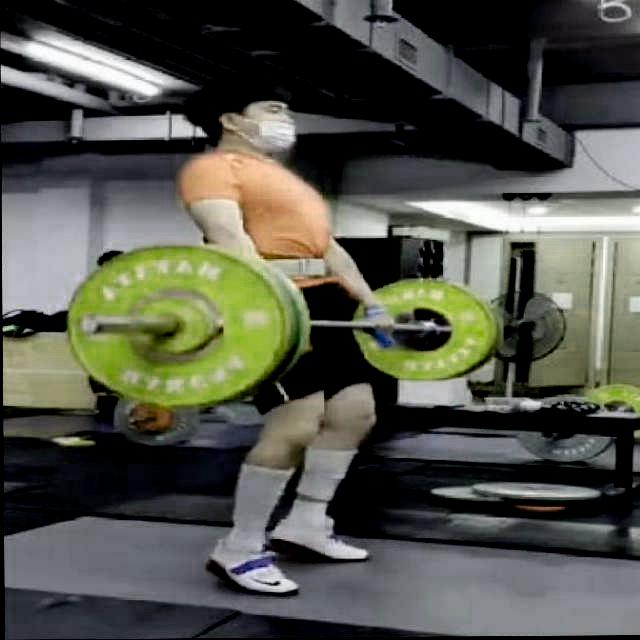barbell: (60, 242, 297, 415)
